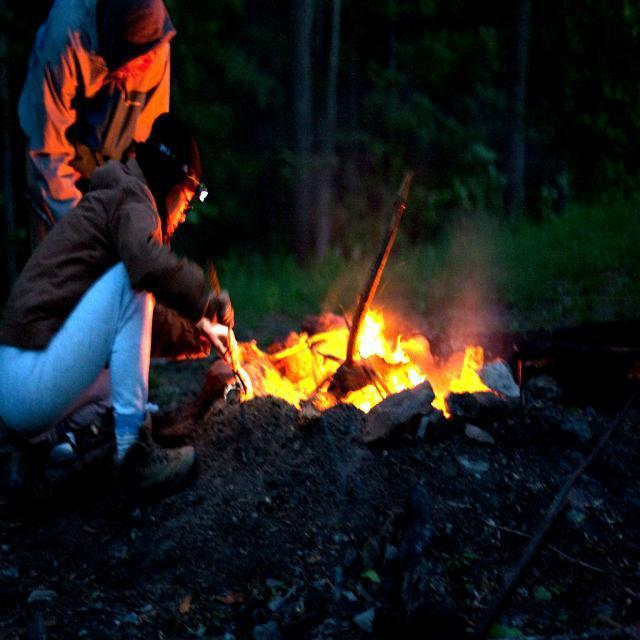Fire: (350, 302, 421, 408), (449, 344, 489, 396)
Smoke: (421, 208, 522, 345)
